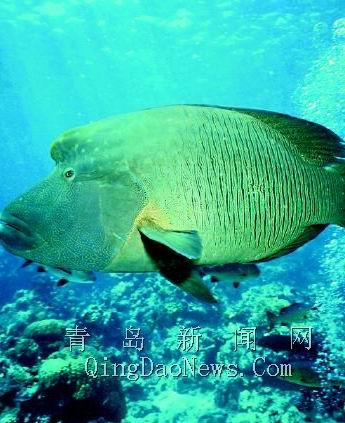fish: (0, 102, 343, 308)
